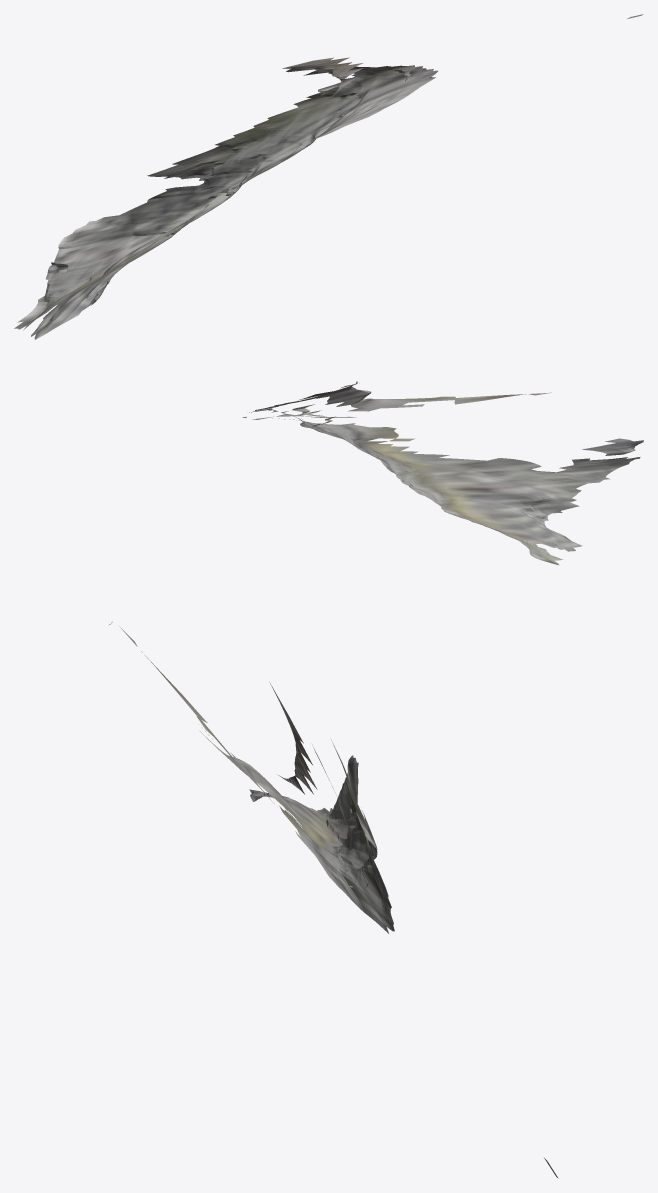
File: entity-cable-tray-12.glb
3 renders of one model, top to bottom at view 1: azimuth 30°, elevation 25°; view 2: azimuth 150°, elevation 25°; view 3: azimuth 270°, elevation 25°, orthographic. The views are drawn at different scales.
Visible parts, largest first — view 1: geometry_0; view 2: geometry_0; view 3: geometry_0.
Boxes of the visible parts, x1,y1,x2,y2 form: geometry_0: (14,14,643,339); geometry_0: (242,381,643,565); geometry_0: (108,622,558,1178).
Size of the model in its own units: 7.57 by 2.05 by 2.92.
